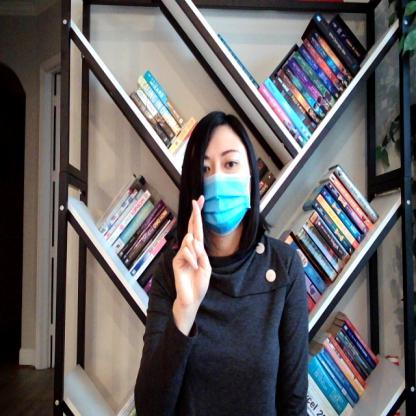right: (172, 193, 215, 316)
